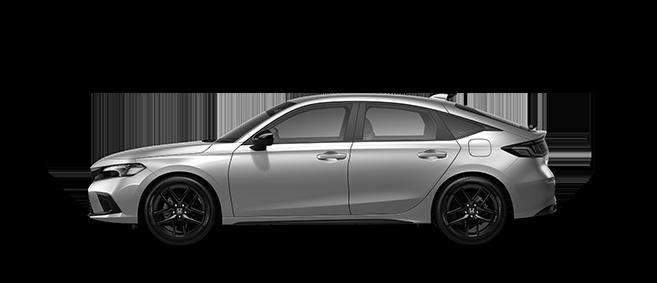Car hood: (101, 137, 216, 160)
Fender - -F-L-: (135, 138, 244, 221)
Fender - -R-L-: (426, 128, 526, 221)
Front bumper: (81, 170, 155, 227)
Headlight - -L-: (87, 161, 151, 184)
Passenger-s door - -F-L-: (231, 98, 351, 219)
Passenger-s door - -R-L-: (351, 98, 462, 220)
Rear bumper: (500, 156, 562, 225)
Rear light - -L-: (497, 135, 551, 162)
Side bumper - -L-: (219, 206, 435, 229)
Side mirror - -L-: (243, 128, 278, 154)
